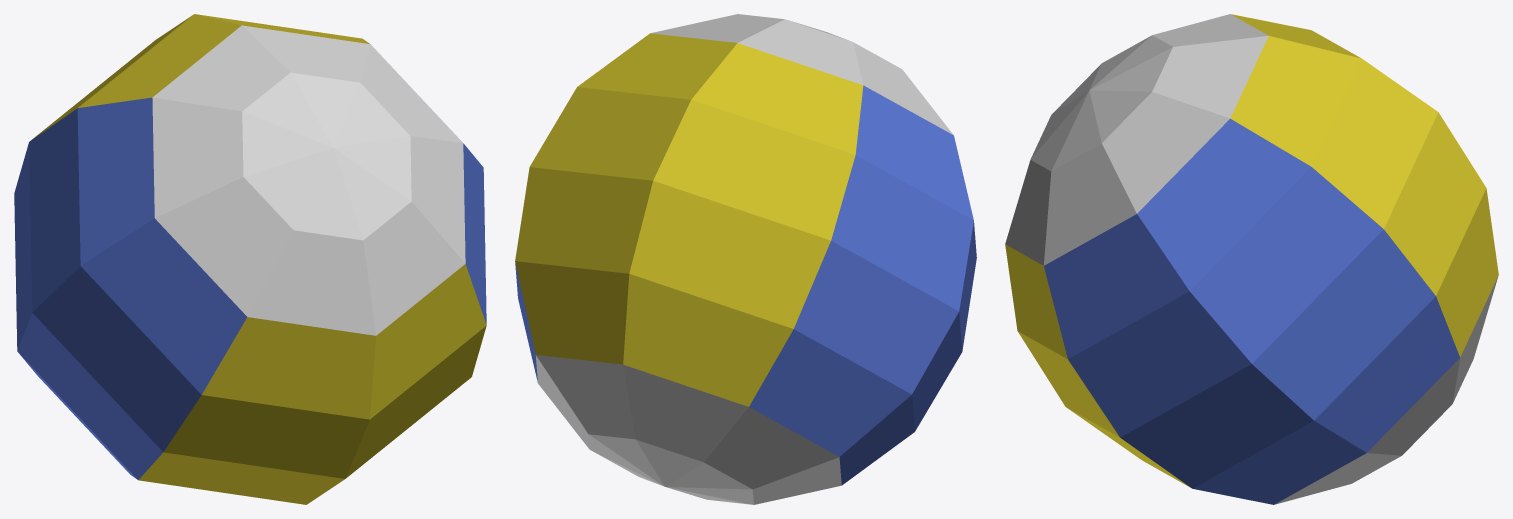
Rendered from Volleyball.fbx.
3 renders of one model, left to right at view 1: azimuth 30°, elevation 25°; view 2: azimuth 150°, elevation 25°; view 3: azimuth 270°, elevation 25°, orthographic. The views are drawn at different scales.
Parts seen in each view (by area): view 1: VOLLEYBALL1; view 2: VOLLEYBALL1; view 3: VOLLEYBALL1.
Boxes of the visible parts, bbox=[...] form: VOLLEYBALL1: bbox=[14, 14, 486, 504]; VOLLEYBALL1: bbox=[515, 14, 976, 504]; VOLLEYBALL1: bbox=[1005, 14, 1498, 504].
Bounding box in the file's own units: 20 × 19.95 × 19.95.
